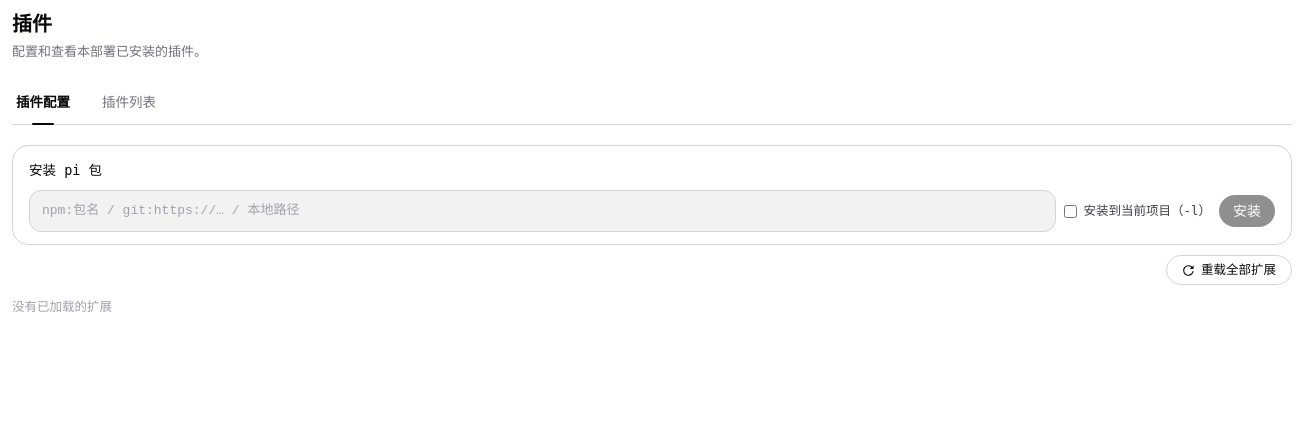
Test: 插件卡片的状态显示 › 停用的包不能点「更新」，并提示先启用；启用的包照常可点
What coordinates should you click on to do the following:
click the button "插件列表"
I would click on:
 (129, 104)
Its box is top-left (98, 84), bottom-right (160, 124).
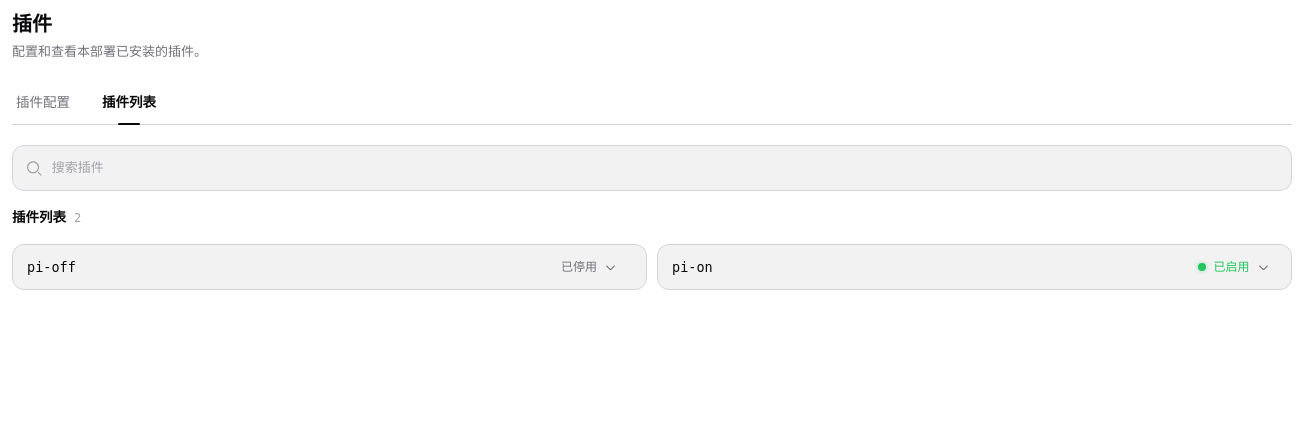
Now the text "pi-off" is shown, box top-left (27, 259), bottom-right (76, 275)
What coordinates should you click on to do the following:
click the button "已停用"
I would click on:
 (589, 267)
Its box is top-left (546, 252), bottom-right (632, 282).
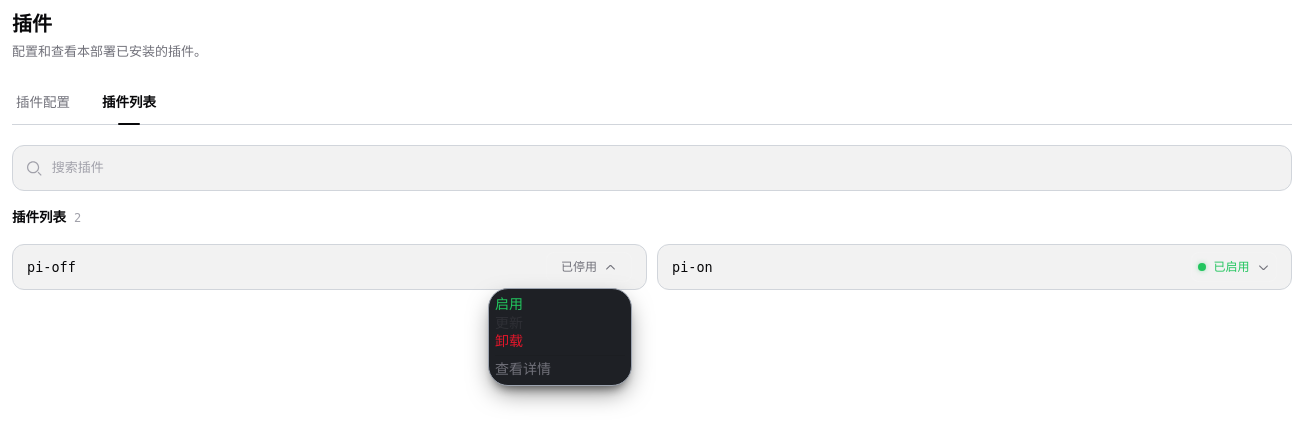
Now the menu item "更新" is disabled, box top-left (495, 314), bottom-right (625, 332)
What coordinates should you click on to do the following:
click the button "已启用"
I would click on:
 (1234, 267)
Its box is top-left (1191, 252), bottom-right (1277, 282).
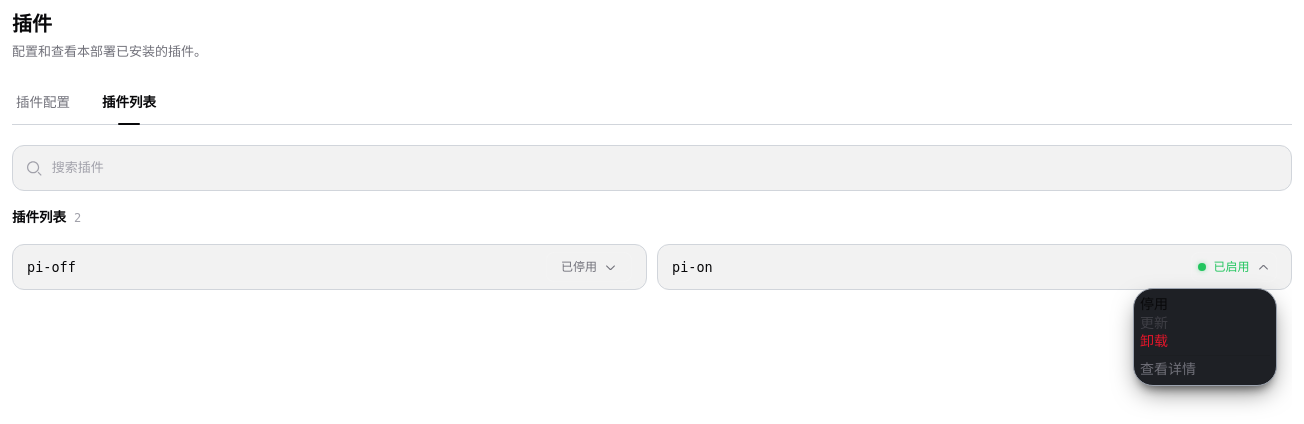
Now the menu item "更新" is enabled, box top-left (1140, 314), bottom-right (1270, 332)
